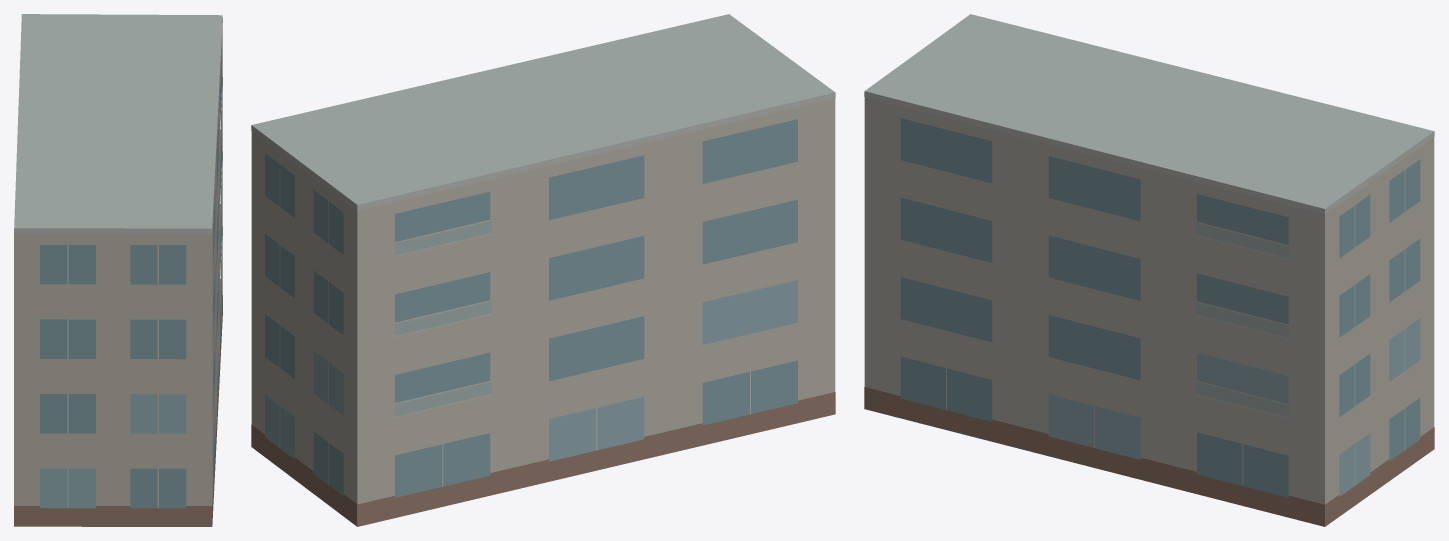
Rendered from survey-upis-32707431.glb.
3 renders of one model, left to right at view 1: azimuth 30°, elevation 25°; view 2: azimuth 150°, elevation 25°; view 3: azimuth 270°, elevation 25°, orthographic. The views are drawn at different scales.
Parts seen in each view (by area): view 1: survey-upis-32707431.tmp; view 2: survey-upis-32707431.tmp; view 3: survey-upis-32707431.tmp.
Part boxes in pixels (x1,y1,x2,y2): survey-upis-32707431.tmp: (14, 14, 222, 526); survey-upis-32707431.tmp: (251, 14, 835, 526); survey-upis-32707431.tmp: (864, 14, 1434, 526).
Bounding box in the file's own units: 17.37 × 13.2 × 21.46.
